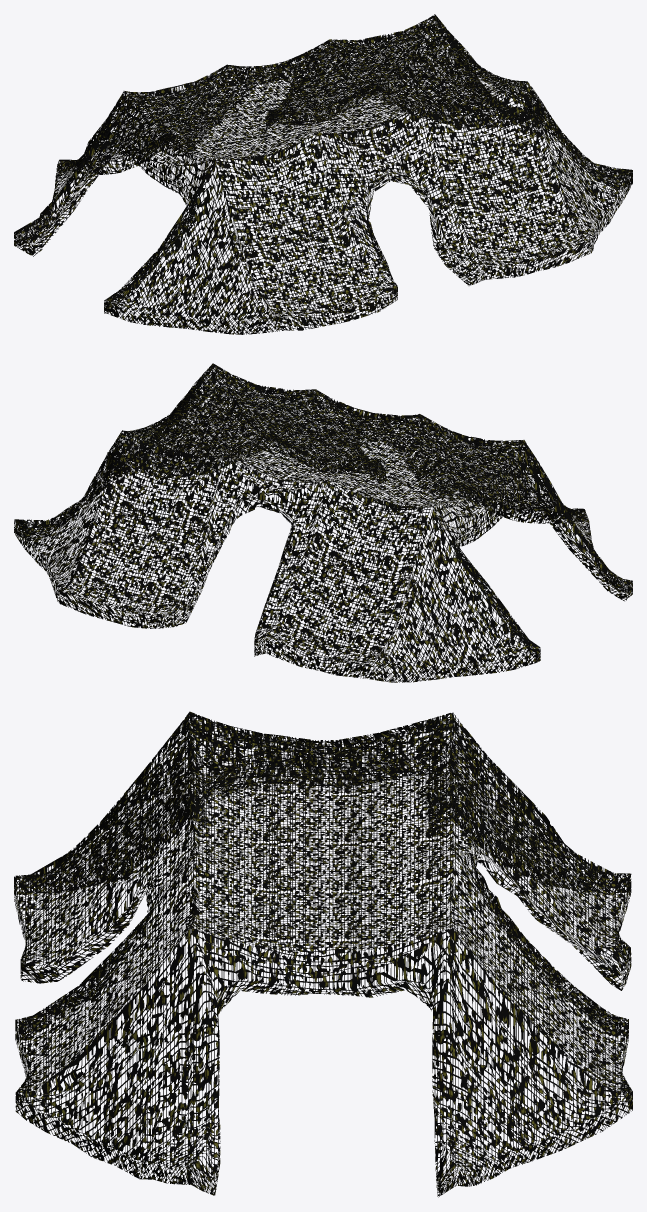
The model's file is CamouflageNetOneSided.FBX.
3 views of the same model, one above another, from view 1: azimuth 30°, elevation 25°; view 2: azimuth 150°, elevation 25°; view 3: azimuth 270°, elevation 25° (orthographic). The views are drawn at different scales.
Parts seen in each view (by area): view 1: CamouflageNetOneSided; view 2: CamouflageNetOneSided; view 3: CamouflageNetOneSided.
Part boxes in pixels (left/top/right/bottom): CamouflageNetOneSided: left=14, top=14, right=632, bottom=334; CamouflageNetOneSided: left=14, top=363, right=632, bottom=682; CamouflageNetOneSided: left=14, top=711, right=632, bottom=1197.
Size of the model in its own units: 2095 by 547 by 1487.
1 material, 1 textured.
